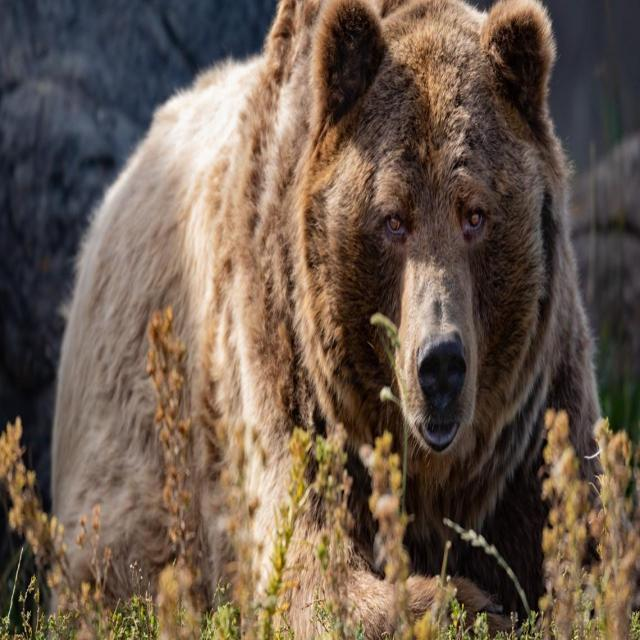Bear: (38, 0, 602, 640)
